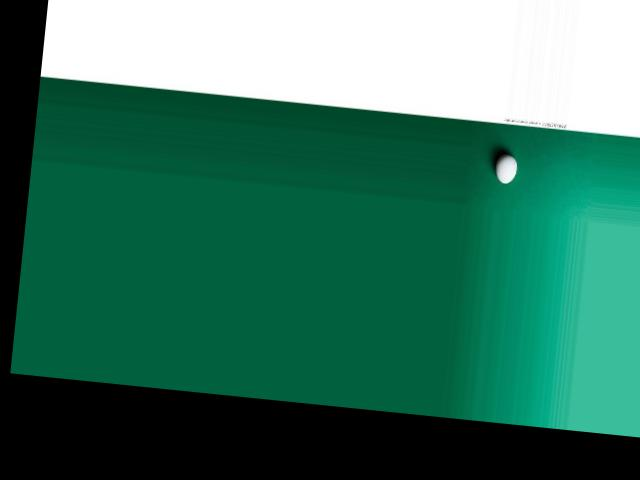egg: (495, 153, 519, 184)
